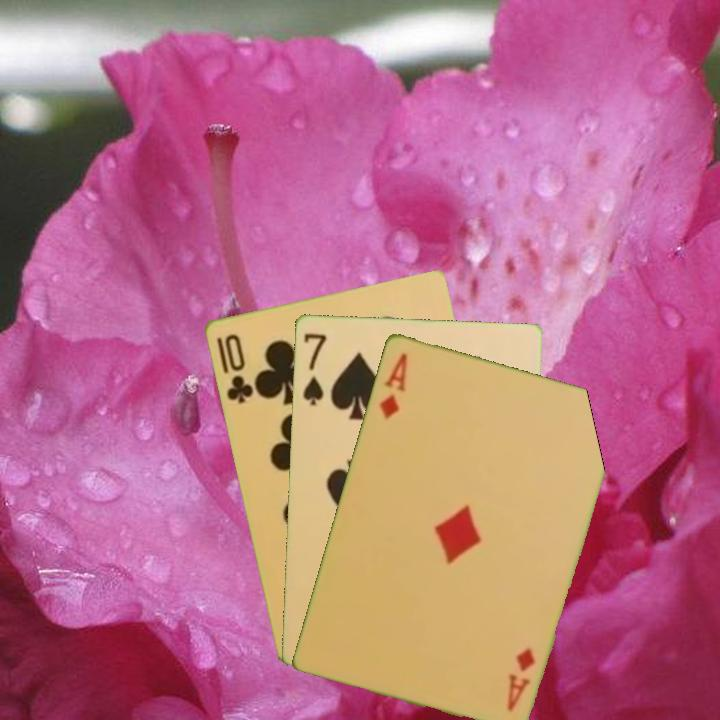10c: (220, 330, 256, 406)
7s: (299, 329, 329, 408)
Ad: (375, 348, 410, 422), (503, 644, 538, 714)
